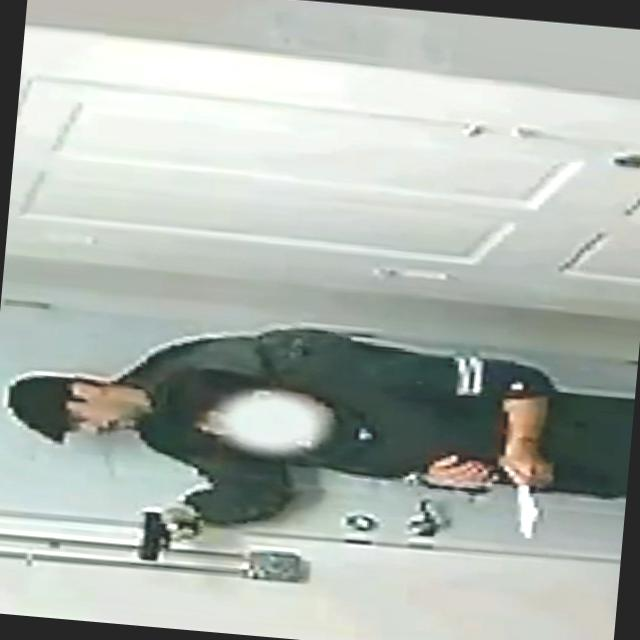handgun: (135, 509, 203, 566)
